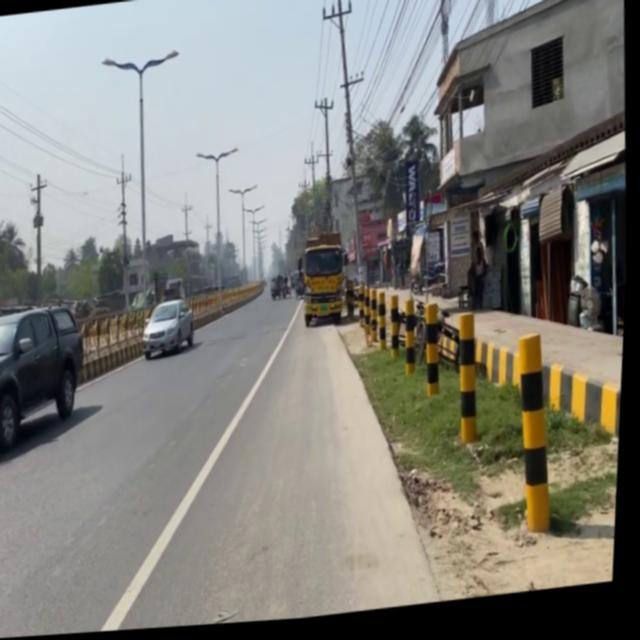Bench: (352, 275, 587, 568)
Construction-barrier: (316, 312, 460, 619)
Fallen-tree: (411, 265, 451, 303)
Garbage-bin: (467, 251, 493, 317)
Pothole: (373, 263, 630, 433)
Traffic-cone: (298, 233, 355, 333)
